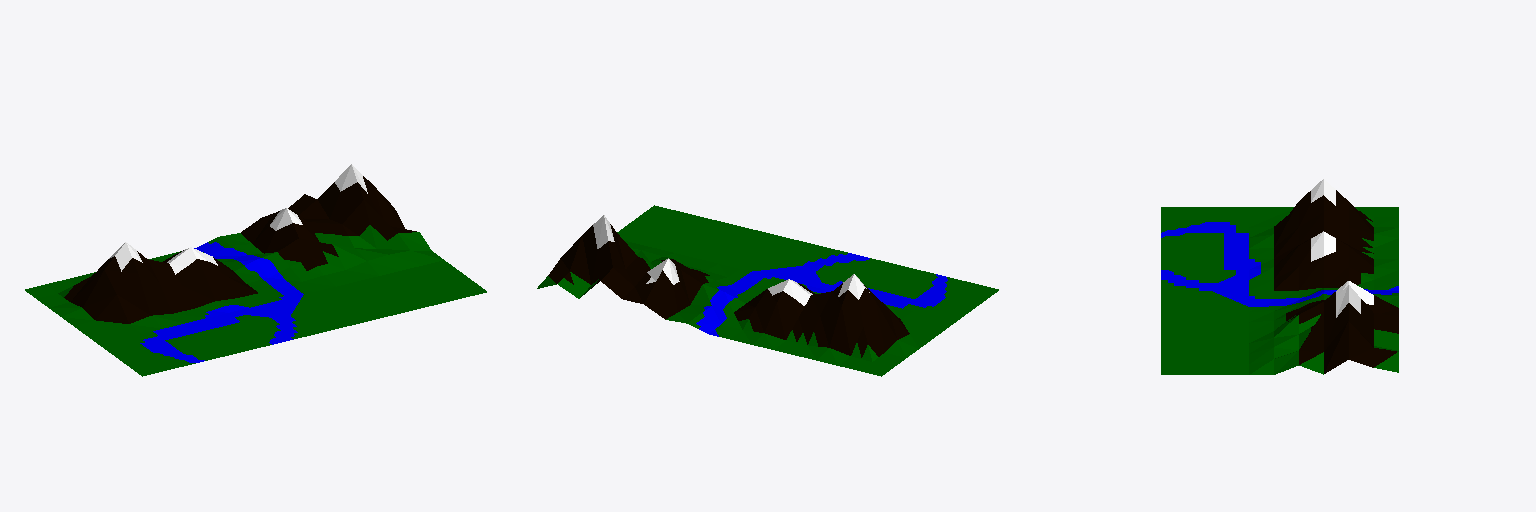
The model's file is mountain.obj.
The picture shows the model from 3 angles: view 1: azimuth 30°, elevation 25°; view 2: azimuth 150°, elevation 25°; view 3: azimuth 270°, elevation 25°; orthographic projection.
Visible parts, largest first — view 1: Plane_Plane.001; view 2: Plane_Plane.001; view 3: Plane_Plane.001.
Part boxes in pixels (bbox=[...]): Plane_Plane.001: bbox=[25, 164, 486, 376]; Plane_Plane.001: bbox=[537, 205, 998, 376]; Plane_Plane.001: bbox=[1161, 179, 1398, 374].
Size of the model in its own units: 21.18 by 4.09 by 12.58.